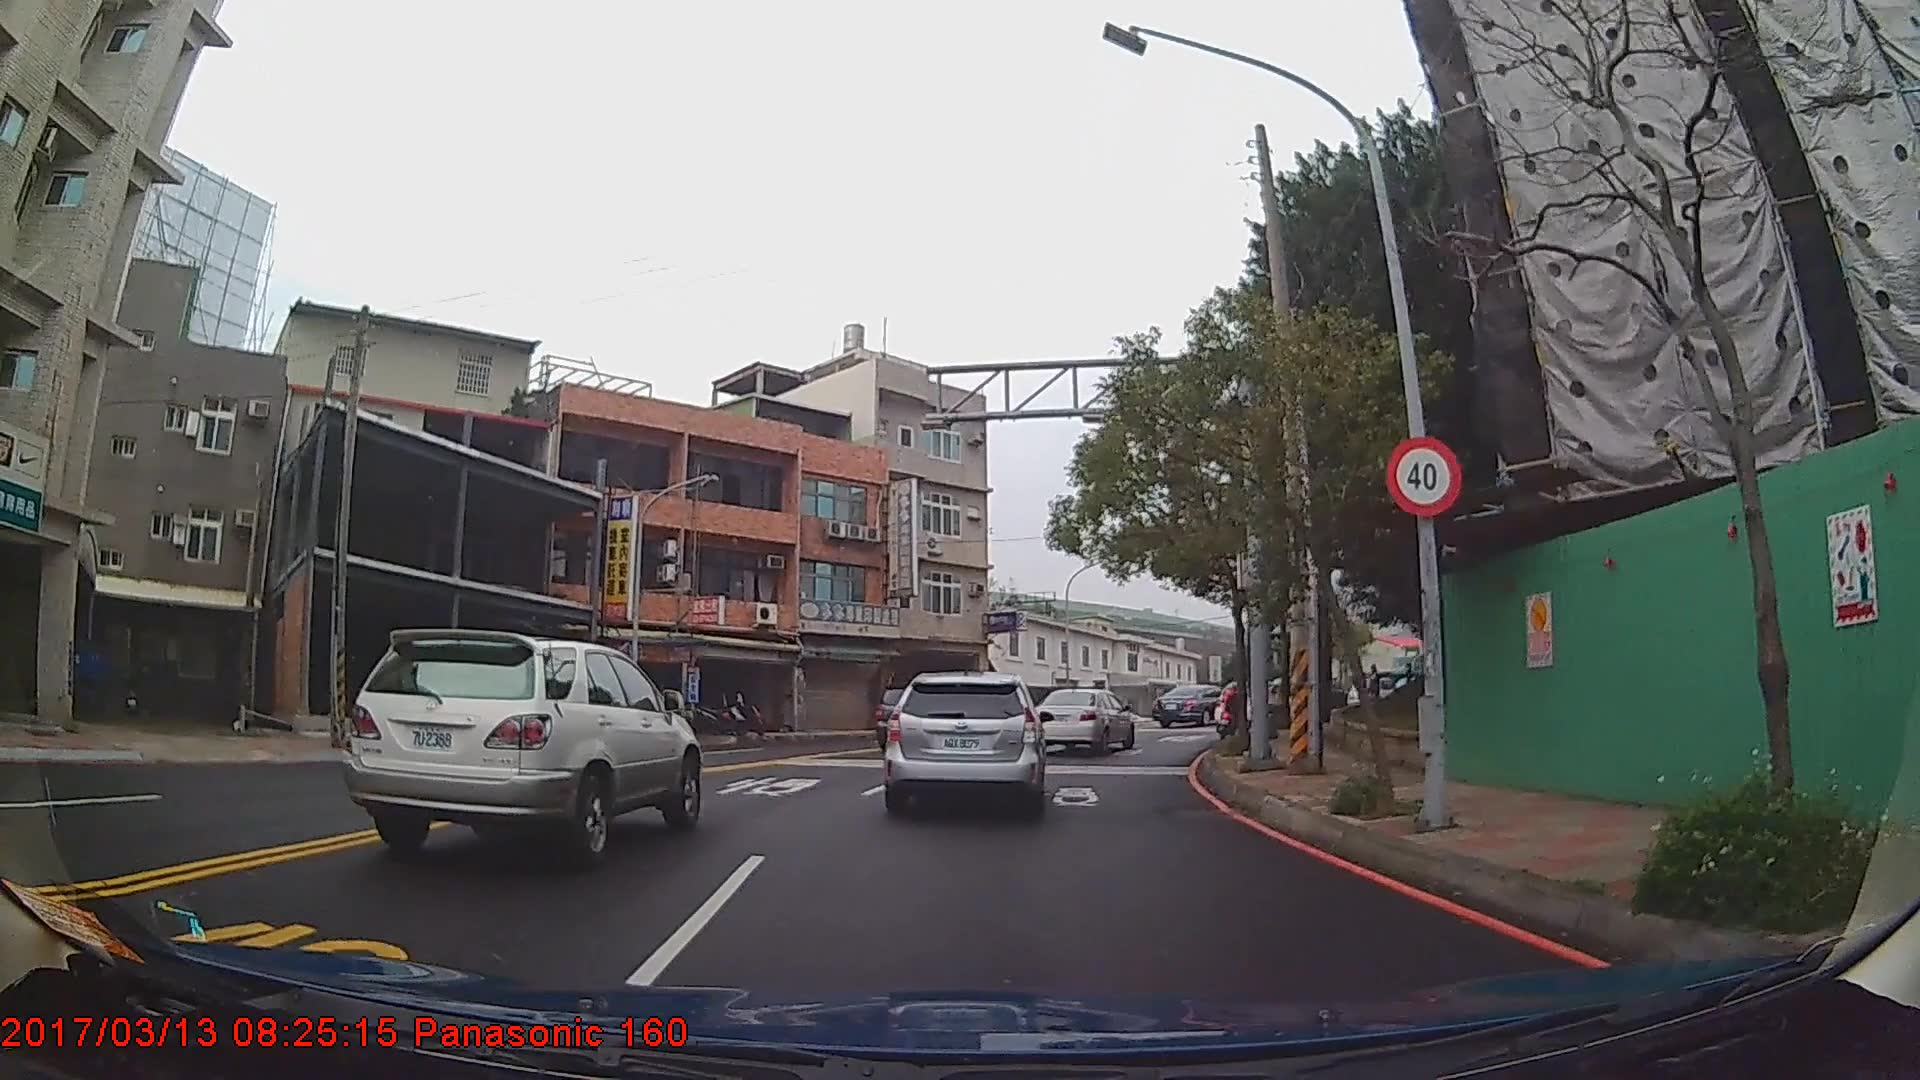rider: (1219, 683, 1247, 743)
vehicle: (343, 622, 701, 863), (885, 670, 1048, 818), (1032, 686, 1136, 756), (1152, 681, 1234, 727)
